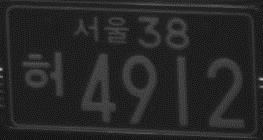1: (171, 53, 193, 127)
2: (204, 57, 246, 129)
3: (135, 14, 163, 50)
4: (78, 51, 118, 123)
8: (165, 16, 190, 51)
9: (120, 54, 159, 127)
서울_O: (71, 16, 132, 46)
허: (20, 49, 66, 97)
